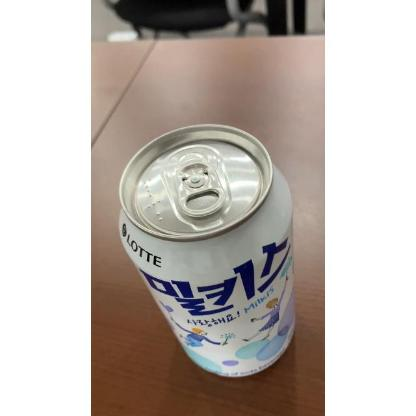Can: (118, 119, 296, 380)
